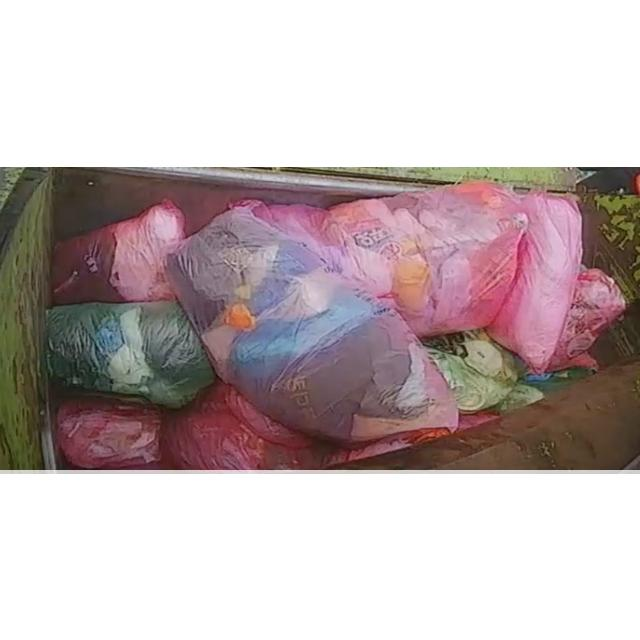general_trashbag: (168, 201, 458, 441), (268, 181, 528, 336), (161, 380, 449, 470), (489, 191, 582, 372), (549, 267, 626, 370), (109, 198, 185, 301), (56, 398, 161, 469)
other_trashbag: (46, 301, 215, 408), (424, 330, 518, 412)
